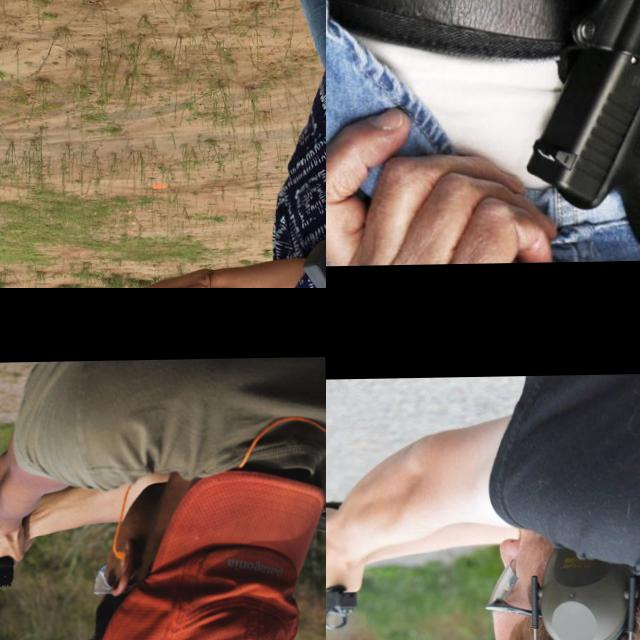handgun: (517, 31, 640, 261), (326, 582, 367, 633), (0, 554, 26, 590)
